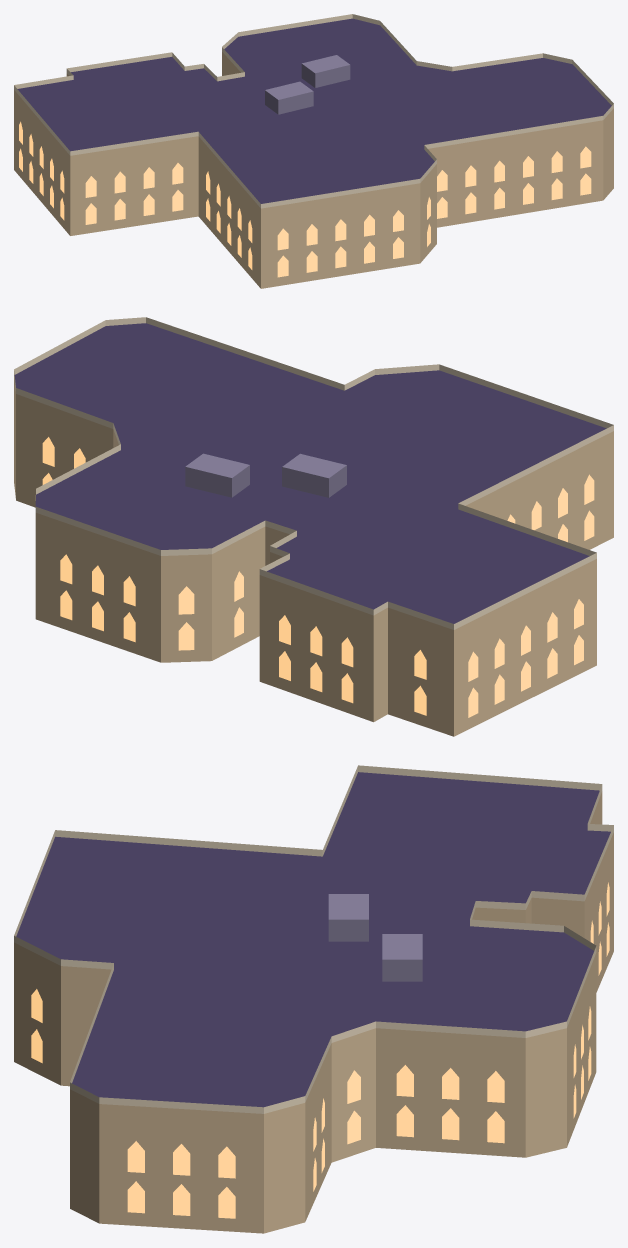
Rendered from b-086-international-graduate-affairs.glb.
3 views of the same model, one above another, from view 1: azimuth 30°, elevation 25°; view 2: azimuth 150°, elevation 25°; view 3: azimuth 270°, elevation 25° (orthographic). The views are drawn at different scales.
Visible parts, largest first — view 1: campus/b-086-international-graduate-affairs-0; view 2: campus/b-086-international-graduate-affairs-0; view 3: campus/b-086-international-graduate-affairs-0.
Part boxes in pixels (x1,y1,x2,y2): campus/b-086-international-graduate-affairs-0: (14,14,613,288); campus/b-086-international-graduate-affairs-0: (14,317,613,736); campus/b-086-international-graduate-affairs-0: (14,765,613,1233).
Bounding box in the file's own units: 60.05 × 11.6 × 44.54.
